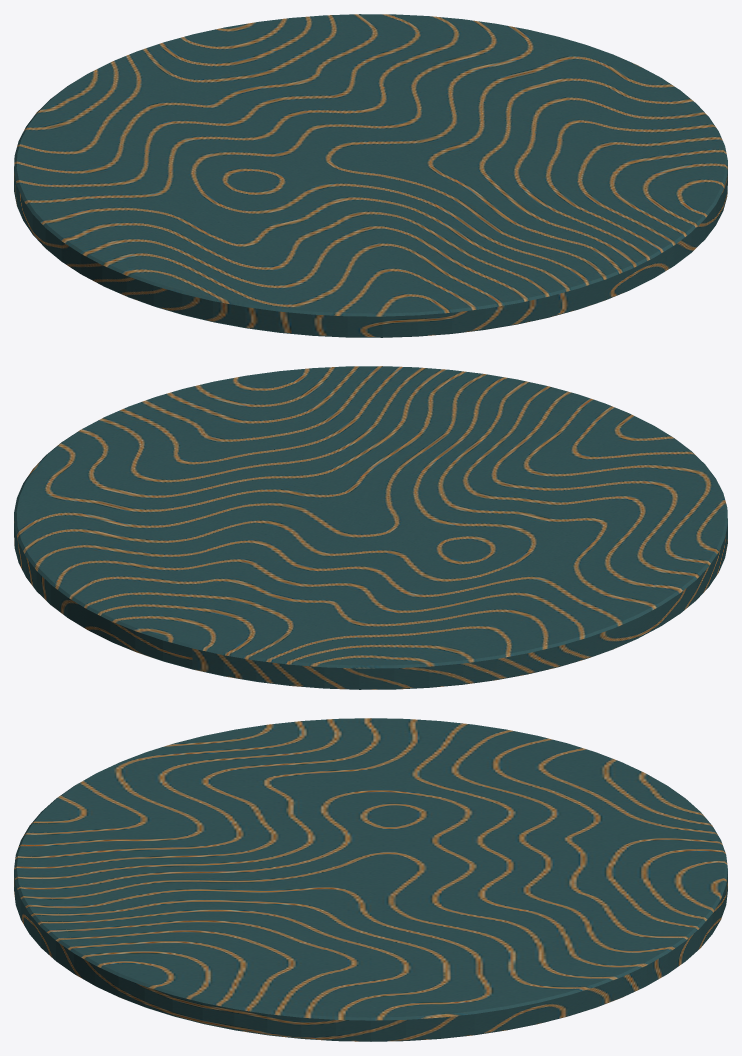
The model's file is pedestal.glb.
3 views of the same model, one above another, from view 1: azimuth 30°, elevation 25°; view 2: azimuth 150°, elevation 25°; view 3: azimuth 270°, elevation 25° (orthographic).
Visible parts, largest first — view 1: Cylinder; view 2: Cylinder; view 3: Cylinder.
Part boxes in pixels (left/top/right/bottom): Cylinder: left=14, top=14, right=727, bottom=337; Cylinder: left=14, top=366, right=727, bottom=689; Cylinder: left=14, top=718, right=727, bottom=1041.
Size of the model in its own units: 1.32 by 0.0495 by 1.32.
1 material, 1 textured.
